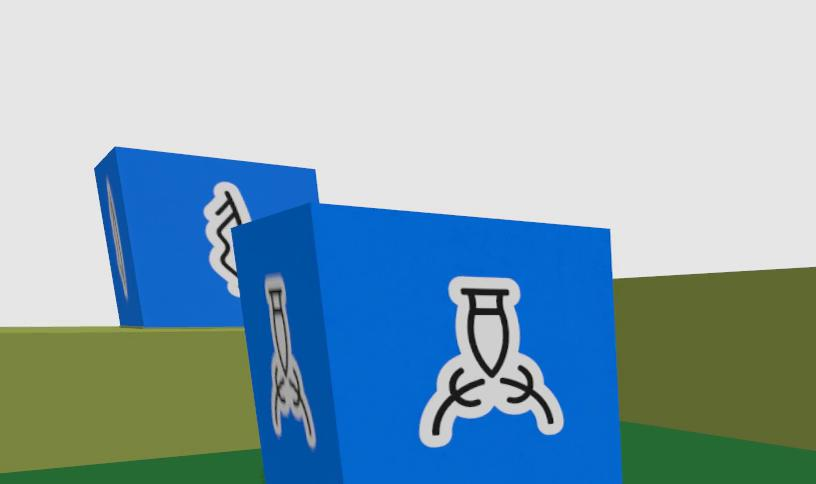KFS_REAL: (234, 203, 621, 484), (95, 147, 319, 327), (420, 277, 562, 447), (265, 275, 314, 448), (204, 182, 248, 295)
